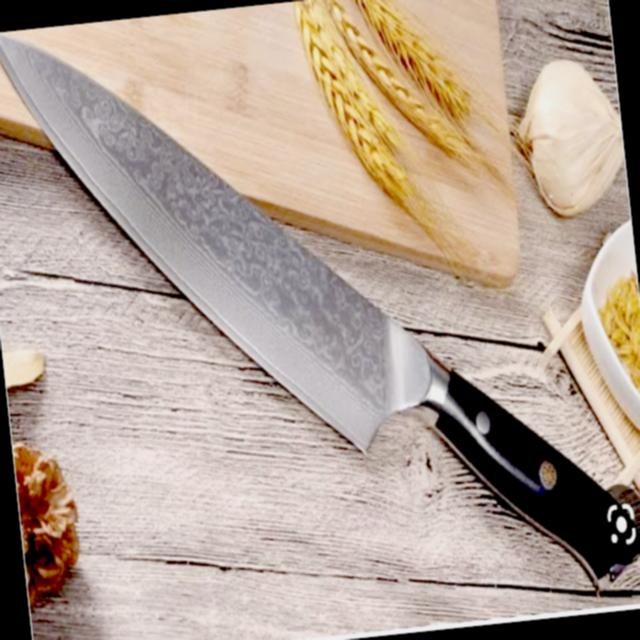knife: (0, 31, 604, 565)
